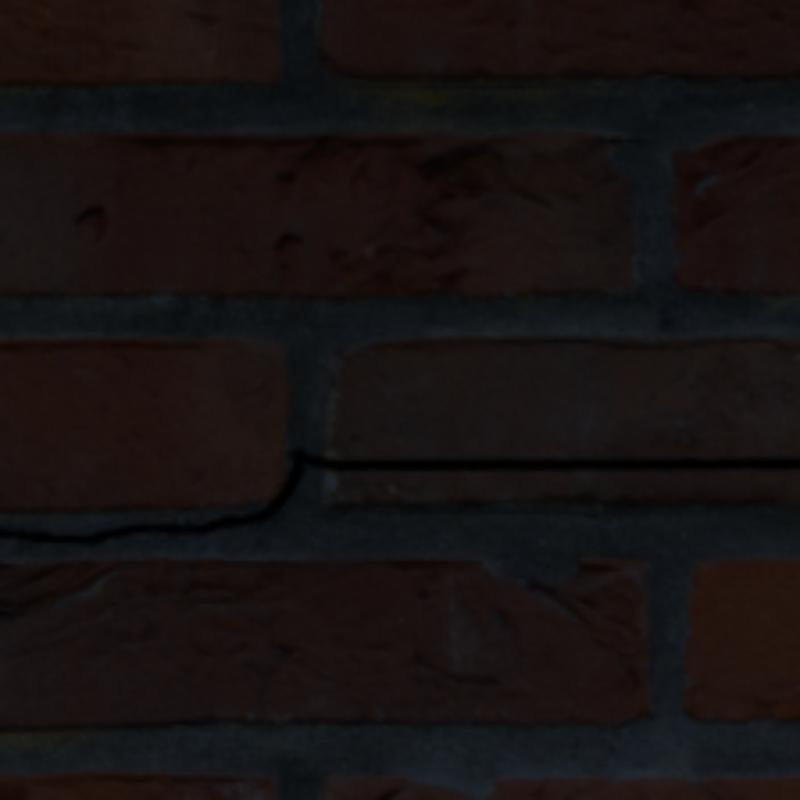pothole: (0, 450, 796, 543)
